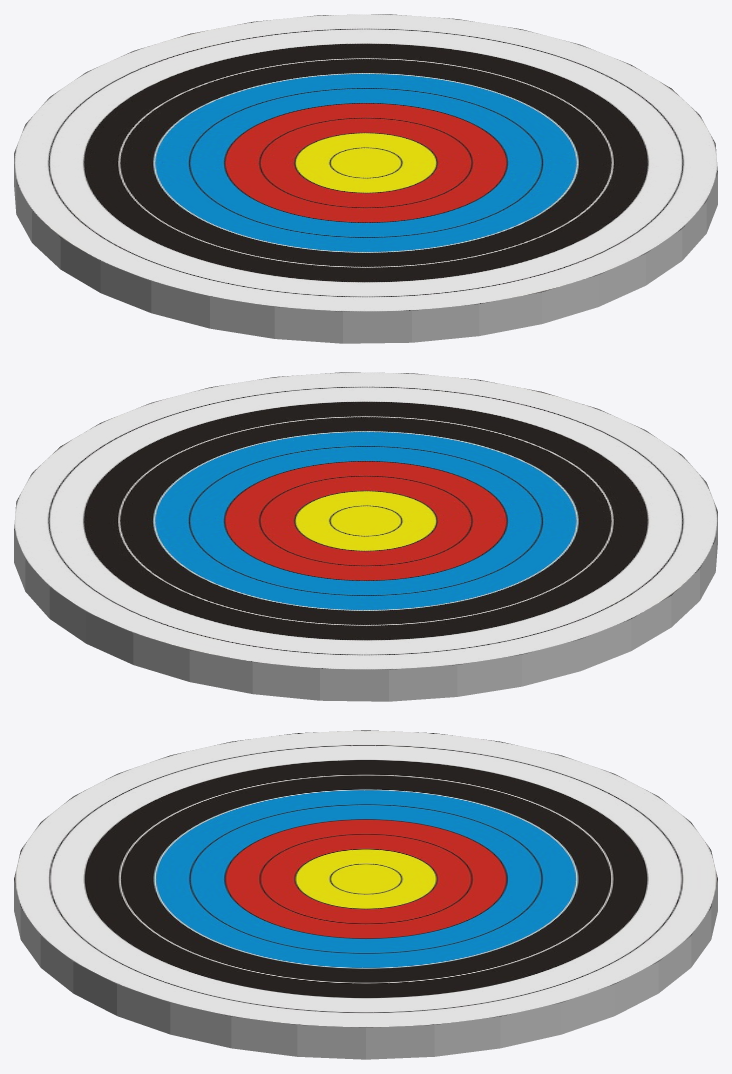
Rendered from TargetBroken.fbx.
The picture shows the model from 3 angles, top to bottom: view 1: azimuth 30°, elevation 25°; view 2: azimuth 150°, elevation 25°; view 3: azimuth 270°, elevation 25°; orthographic projection.
Parts seen in each view (by area): view 1: Pieces_13, Pieces_14, Pieces_17, Pieces_10, Pieces_16, Pieces_20, Pieces_4, Pieces_19, Pieces_8, Pieces_7, Pieces_2, Pieces_18 (+8 smaller); view 2: Pieces_20, Pieces_10, Pieces_14, Pieces_17, Pieces_16, Pieces_9, Pieces_4, Pieces_13, Pieces_8, Pieces_7, Pieces_19, Pieces_2 (+8 smaller); view 3: Pieces_10, Pieces_4, Pieces_20, Pieces_17, Pieces_16, Pieces_14, Pieces_13, Pieces_8, Pieces_7, Pieces_19, Pieces_2, Pieces_12 (+8 smaller).
Boxes of the visible parts, box(x1,y1,x2,y2) form: Pieces_13: box(220, 240, 498, 343); Pieces_14: box(22, 188, 218, 329); Pieces_17: box(169, 180, 408, 330); Pieces_10: box(383, 14, 632, 106); Pieces_16: box(418, 105, 684, 214); Pieces_20: box(118, 14, 390, 86); Pieces_4: box(543, 66, 717, 220); Pieces_19: box(406, 209, 612, 320); Pieces_8: box(218, 132, 418, 219); Pieces_7: box(97, 58, 251, 144); Pieces_2: box(306, 76, 480, 158); Pieces_18: box(583, 188, 711, 298); Pieces_20: box(49, 558, 277, 696); Pieces_10: box(14, 472, 181, 618); Pieces_14: box(517, 507, 717, 659); Pieces_17: box(460, 475, 716, 579); Pieces_16: box(160, 392, 444, 489); Pieces_9: box(275, 642, 555, 701); Pieces_4: box(33, 381, 255, 484); Pieces_13: box(516, 403, 715, 506); Pieces_8: box(333, 476, 475, 577); Pieces_7: box(275, 577, 431, 690); Pieces_19: box(373, 383, 539, 476); Pieces_2: box(179, 509, 352, 564); Pieces_10: box(394, 928, 658, 1056); Pieces_4: box(138, 972, 435, 1059); Pieces_20: box(535, 840, 717, 992); Pieces_17: box(162, 758, 411, 866); Pieces_16: box(157, 872, 399, 983); Pieces_14: box(164, 730, 476, 794); Pieces_13: box(18, 758, 200, 858); Pieces_8: box(229, 816, 482, 884); Pieces_7: box(476, 803, 703, 866); Pieces_19: box(14, 863, 234, 947); Pieces_2: box(370, 872, 536, 951); Pieces_12: box(240, 873, 434, 966).
Size of the model in its own units: 160 by 8 by 160.
2 materials, 1 textured.
